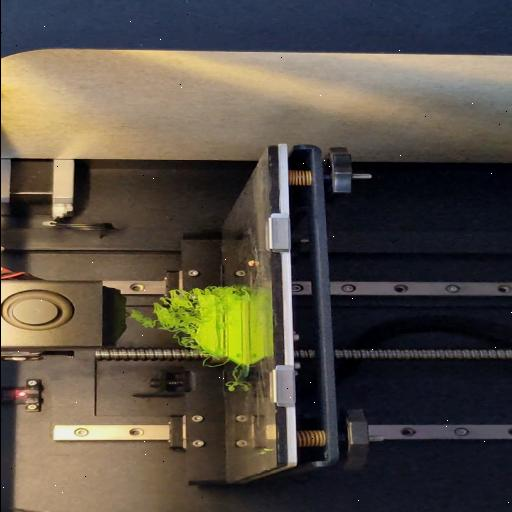spaghetti: (128, 288, 196, 352), (224, 363, 242, 391), (196, 356, 224, 368), (233, 288, 248, 297)
